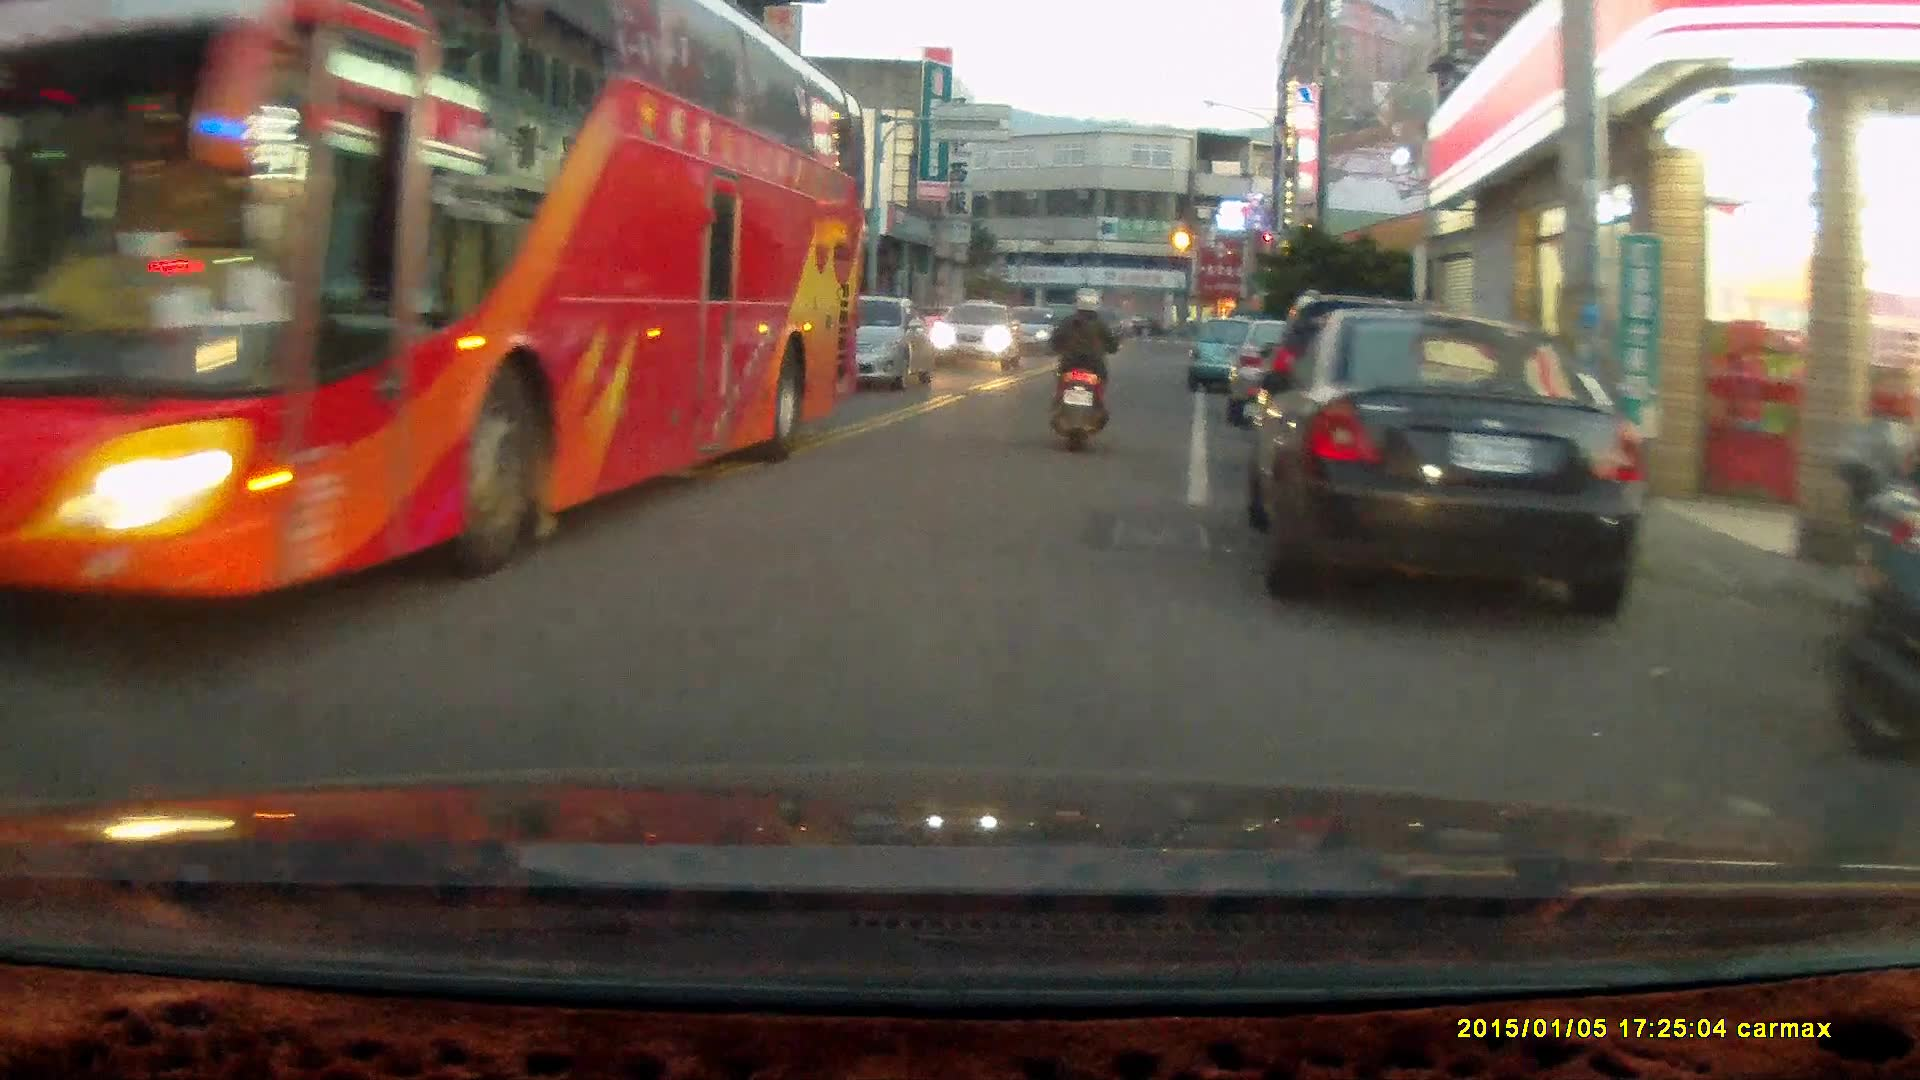rider: (1044, 282, 1119, 454)
vehicle: (1, 18, 871, 600), (1243, 306, 1646, 616), (809, 292, 934, 392), (927, 299, 1020, 369), (1188, 313, 1271, 389)
